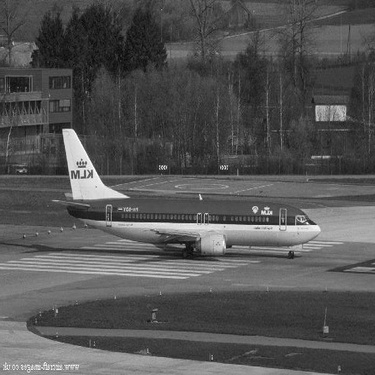airplane: (25, 110, 342, 266)
